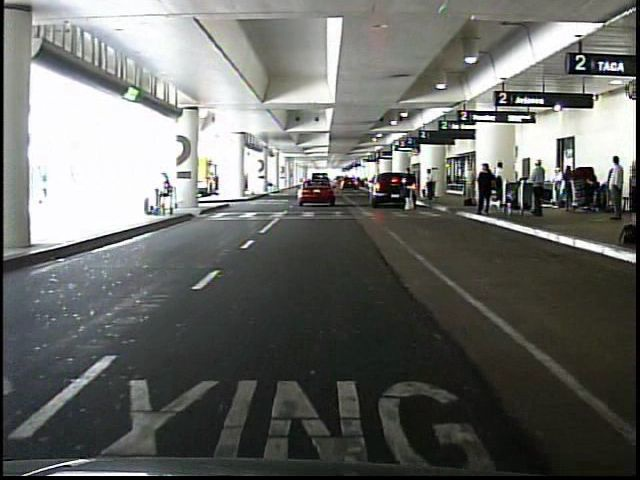person: (624, 145, 640, 224), (606, 156, 625, 221), (529, 157, 547, 217), (155, 172, 176, 219), (475, 160, 493, 214), (562, 164, 576, 210), (403, 166, 416, 212), (549, 168, 565, 205), (493, 161, 504, 202), (426, 168, 437, 203)
